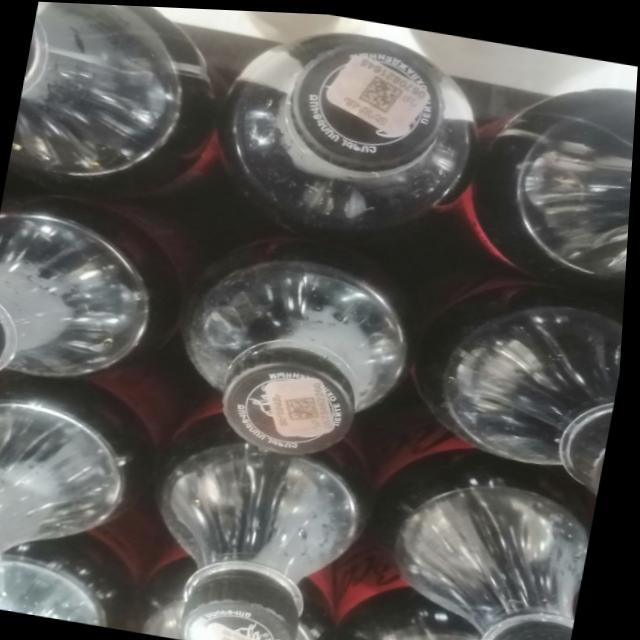datamatrix: (352, 68, 408, 111), (283, 388, 329, 424)
